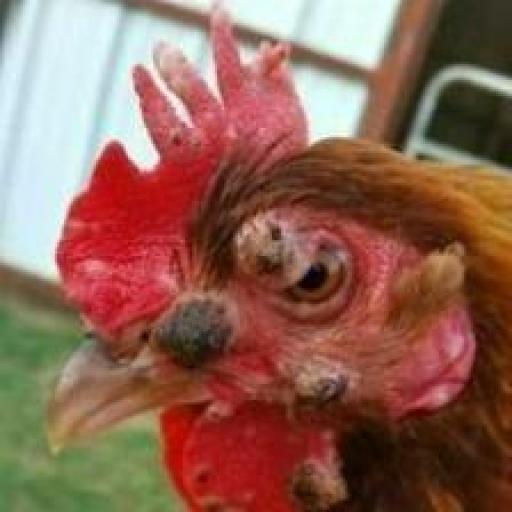disease: (83, 2, 321, 152), (206, 178, 351, 335), (169, 429, 361, 512), (125, 271, 249, 396), (269, 339, 384, 428)
